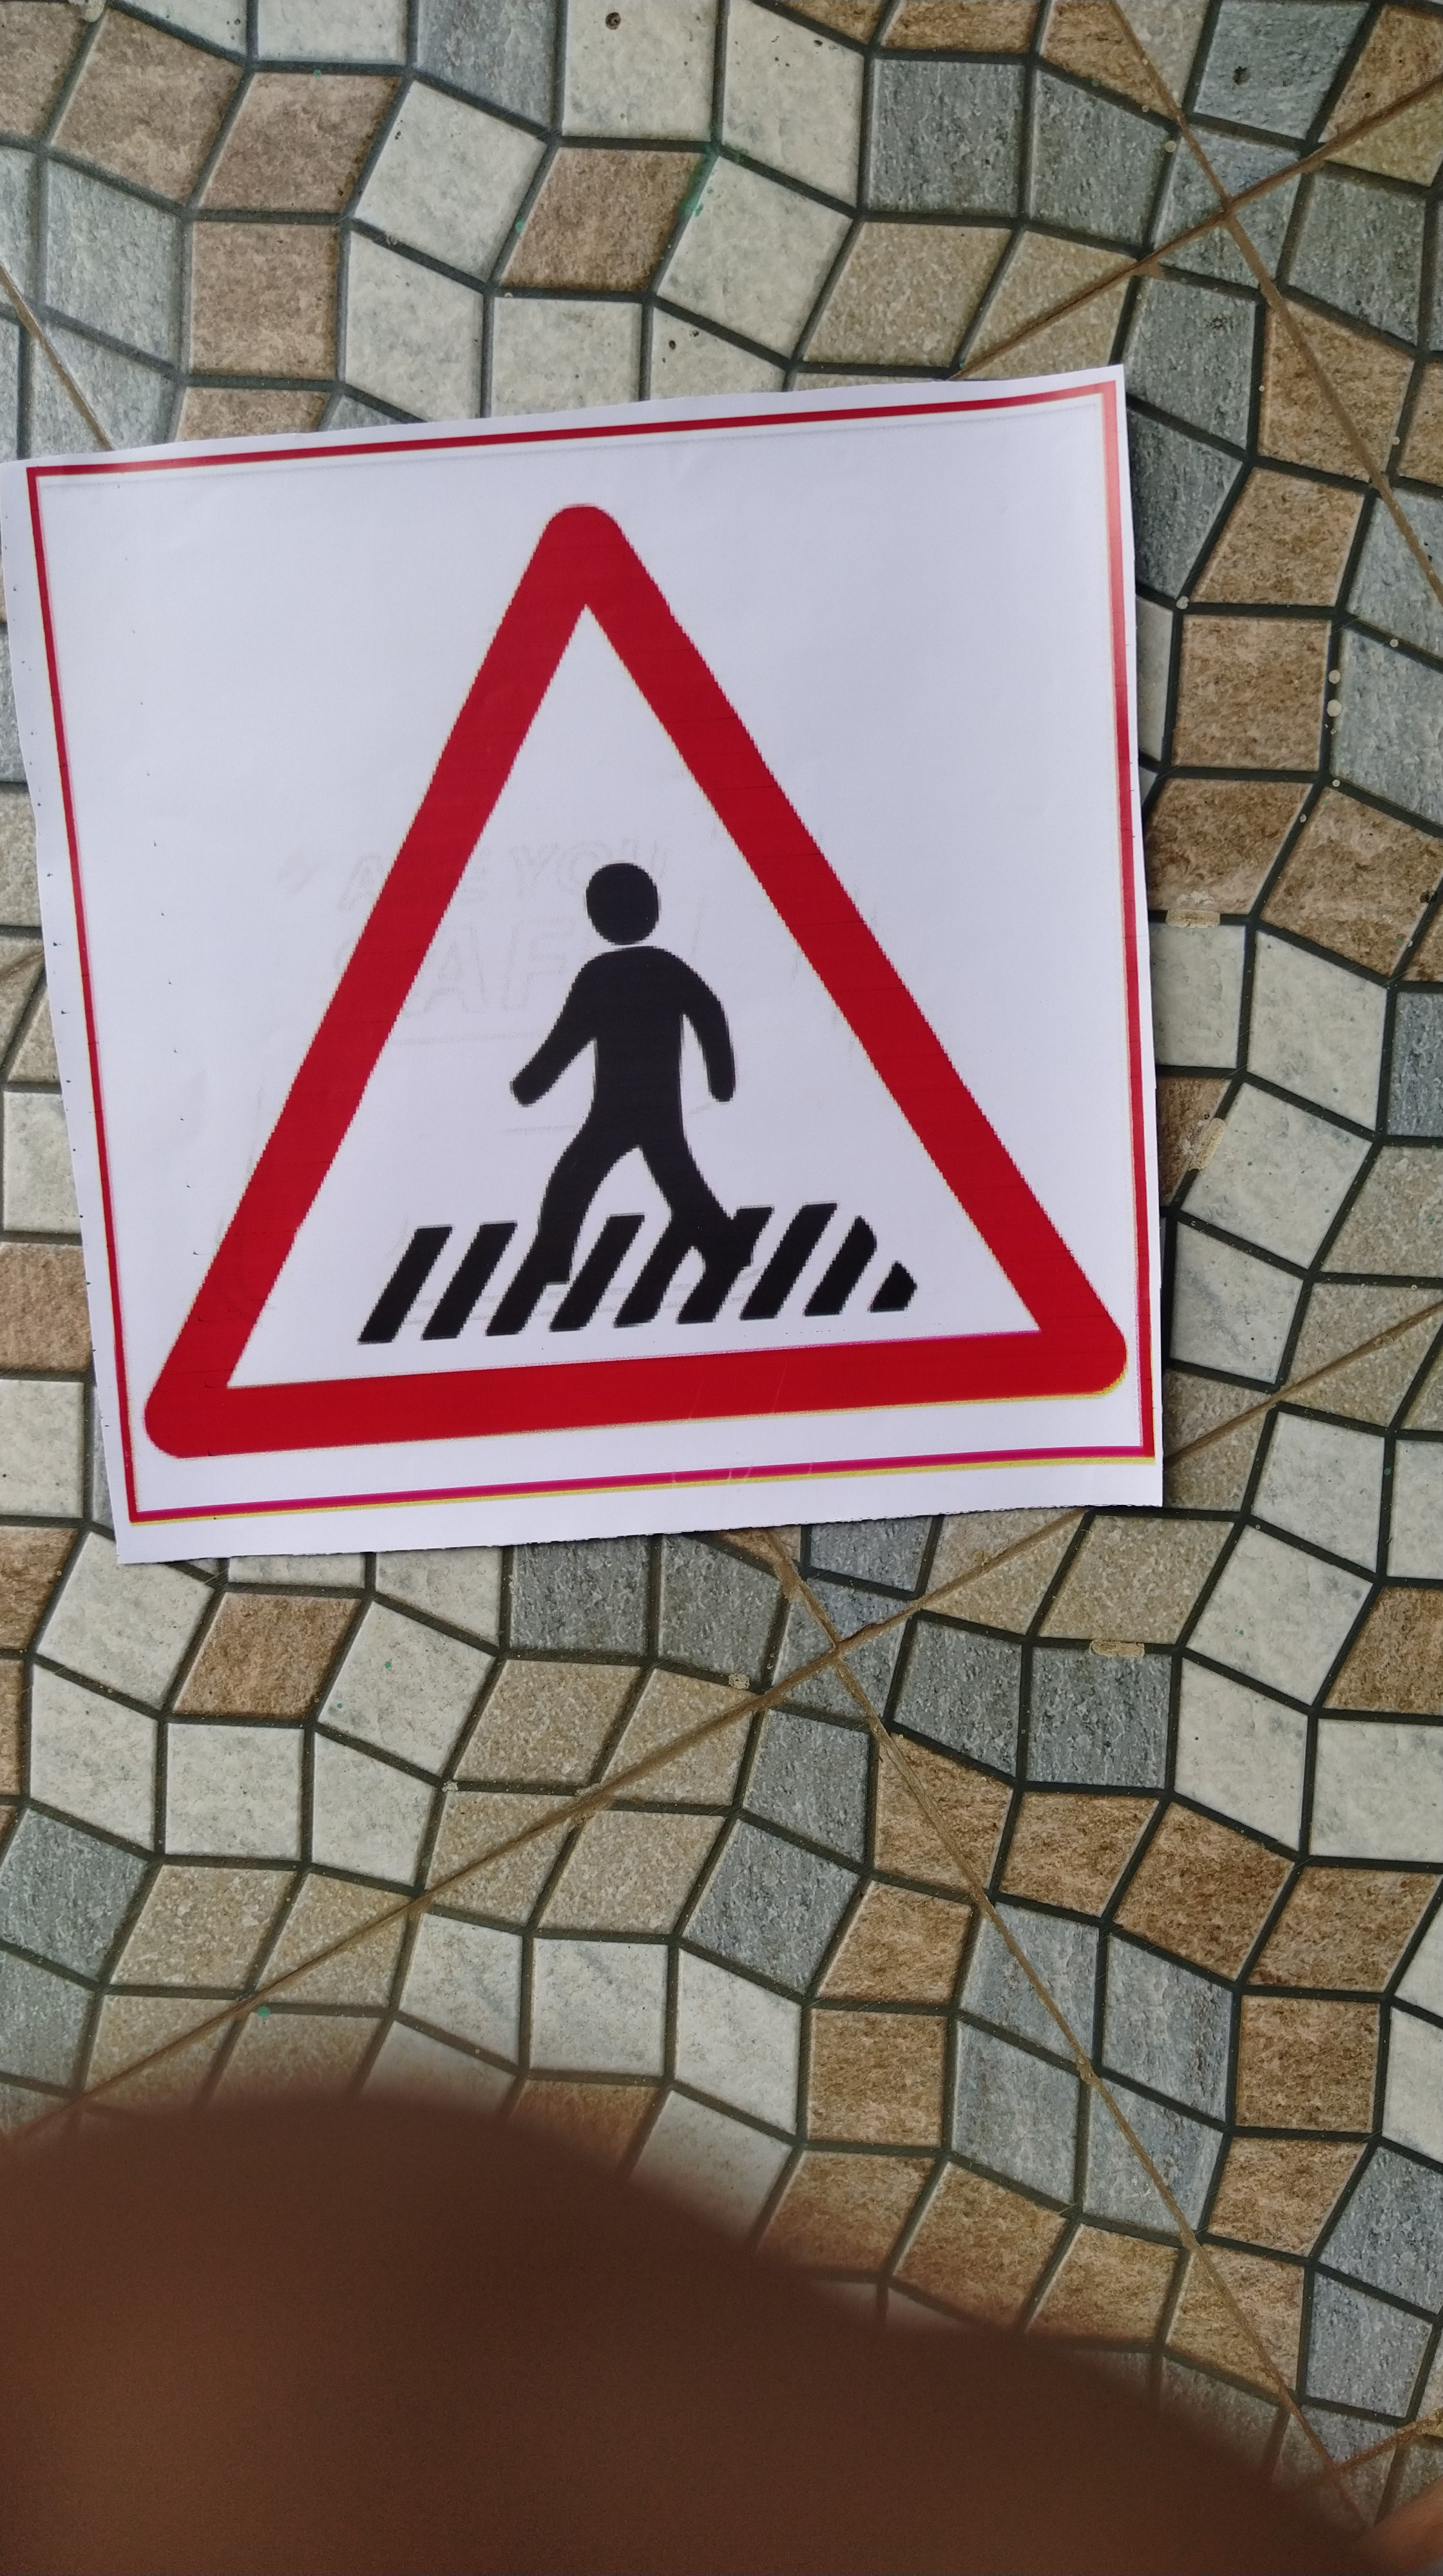pedestrain crossing: (57, 502, 1105, 1509)
